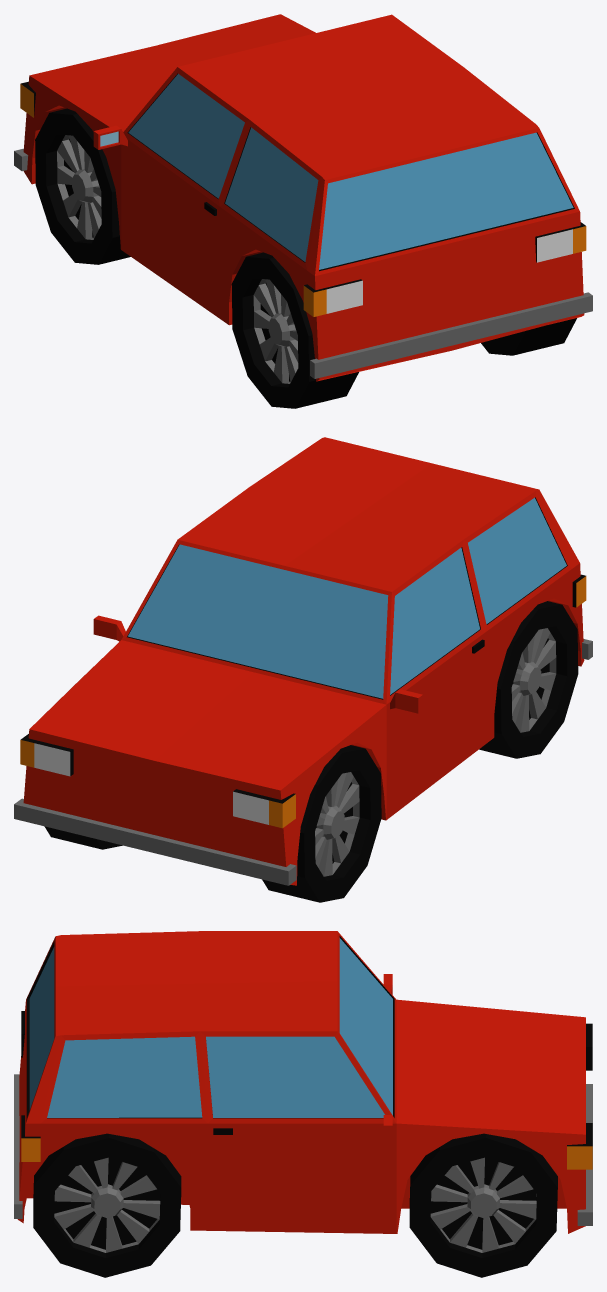
File: mini.fbx
The picture shows the model from 3 angles, top to bottom: view 1: azimuth 30°, elevation 25°; view 2: azimuth 150°, elevation 25°; view 3: azimuth 270°, elevation 25°; orthographic projection. The views are drawn at different scales.
Visible parts, largest first — view 1: car001.002; view 2: car001.002; view 3: car001.002.
Part boxes in pixels (x1=…): car001.002: x1=14, y1=14, x2=592, y2=408; car001.002: x1=14, y1=437, x2=592, y2=902; car001.002: x1=14, y1=931, x2=592, y2=1277.
Size of the model in its own units: 107 by 76.78 by 172.
